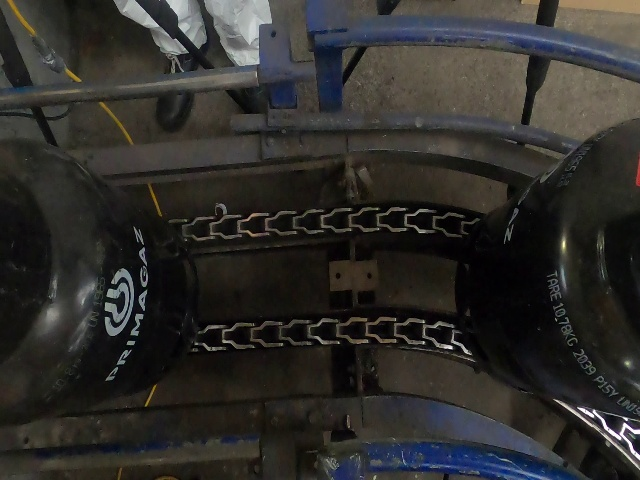gas_bottle: (1, 0, 640, 480)
